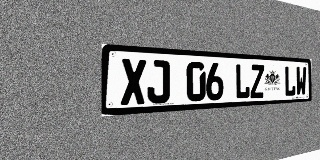0: (186, 61, 205, 102)
6: (206, 62, 223, 101)
J: (147, 60, 170, 104)
L: (235, 64, 250, 99), (284, 66, 296, 97)
W: (296, 66, 306, 96)
X: (121, 58, 146, 105)
Z: (250, 64, 264, 98)
